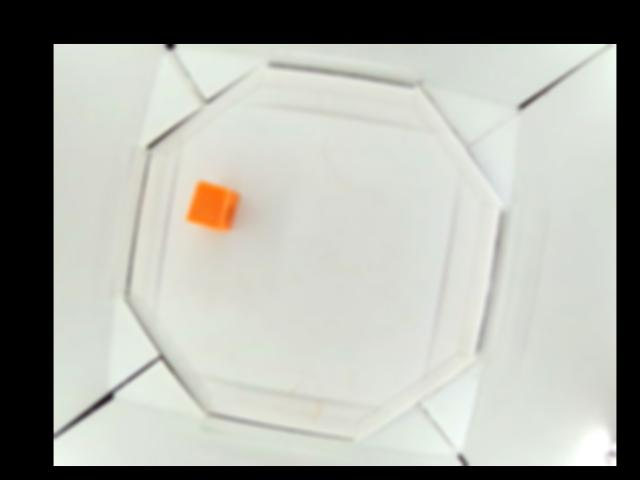Carrot: (186, 180, 238, 231)
